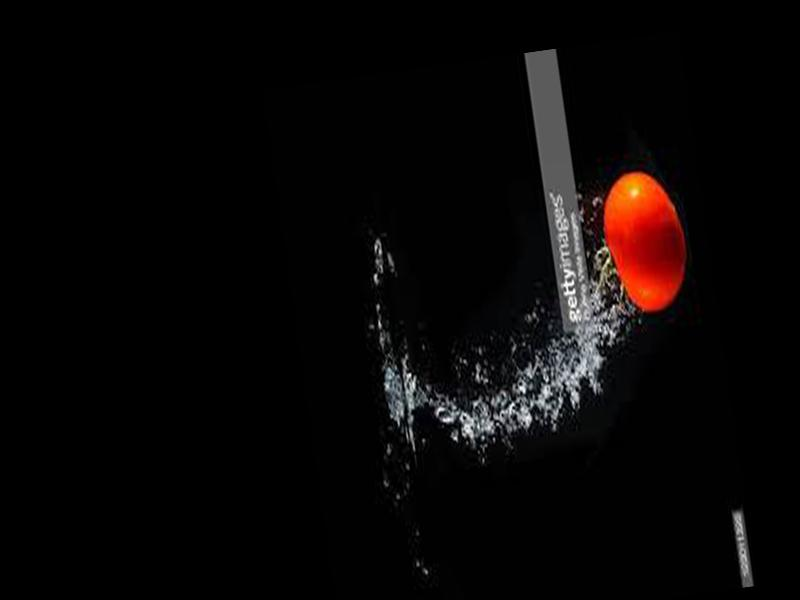Tomato: (596, 166, 691, 318)
